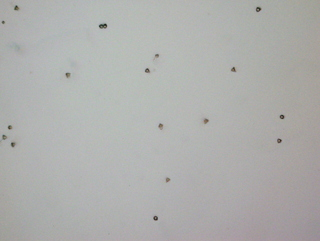nongerminated: (148, 211, 163, 224), (154, 119, 167, 132), (140, 63, 153, 76), (252, 2, 265, 14), (162, 174, 175, 186), (227, 64, 241, 75), (150, 50, 164, 61), (274, 134, 286, 146), (8, 139, 20, 151), (61, 69, 74, 80), (10, 4, 24, 14), (200, 115, 212, 126), (102, 20, 114, 31), (4, 121, 17, 131), (276, 110, 287, 121), (0, 18, 11, 29), (96, 21, 105, 31), (1, 130, 8, 142)
